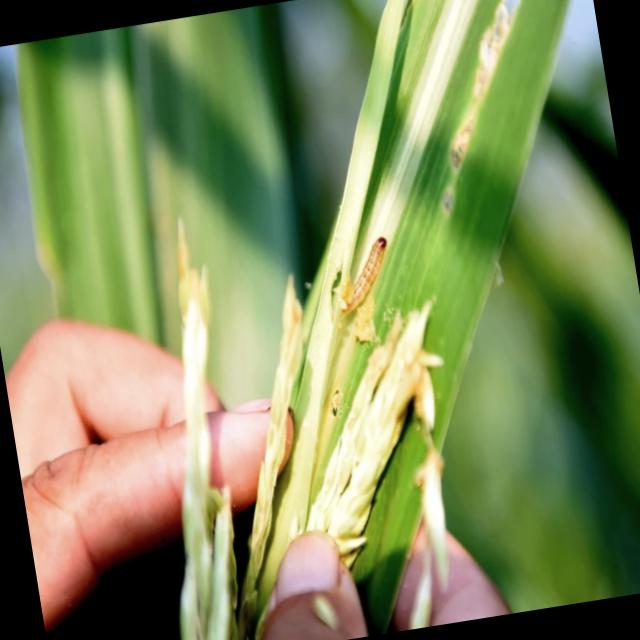pest: (326, 240, 396, 319)
